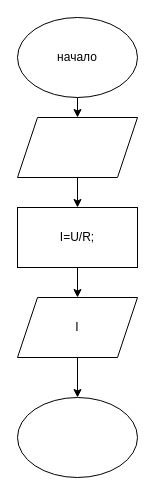
Some shapes in this 155 by 495 pixel diagram are drawn without their labels. Each missing label, with the centre of its shape:
U,R;: (x=77, y=147)
Конец: (x=77, y=437)
